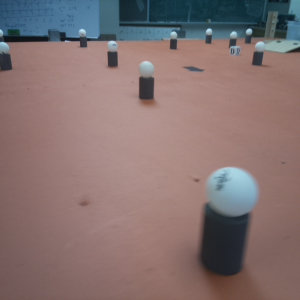blockD: (229, 45, 238, 57)
corner: (266, 11, 276, 38)
obstacle: (202, 165, 248, 270), (139, 60, 155, 99), (1, 44, 15, 72), (106, 43, 120, 69), (78, 28, 89, 48), (168, 31, 179, 50), (252, 42, 261, 64), (245, 28, 253, 44), (229, 31, 237, 47), (205, 29, 212, 44)
slope: (264, 40, 298, 55)
start: (183, 64, 206, 74)
